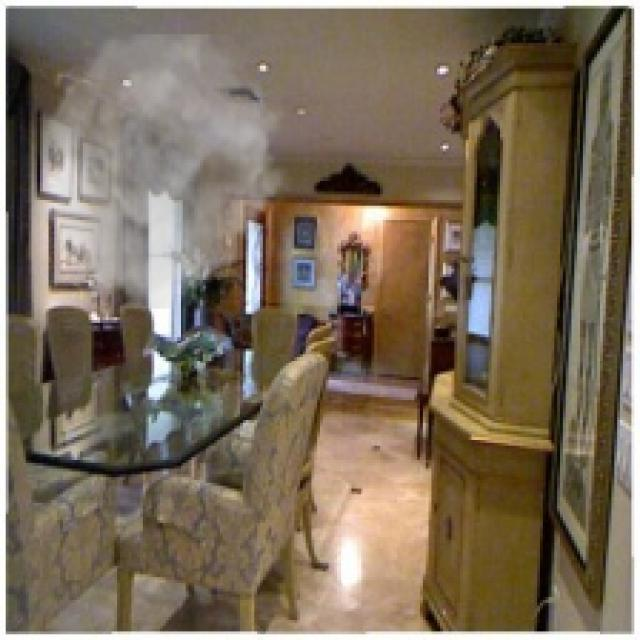smoke: (26, 34, 294, 309)
